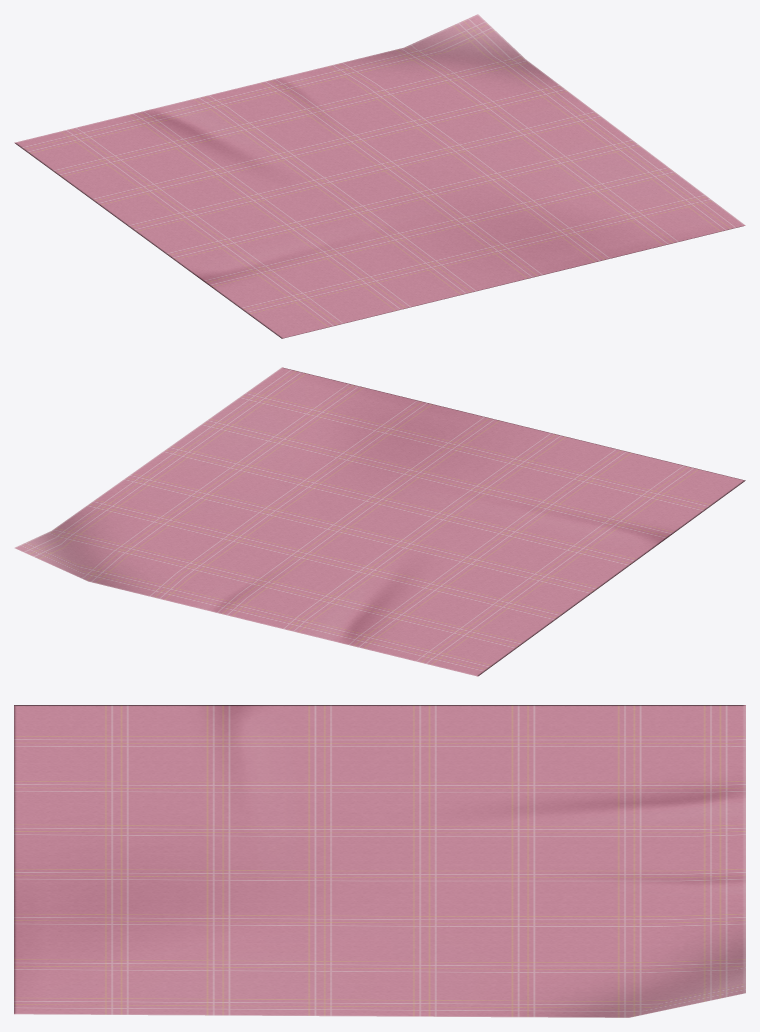
File: picnic_towel.fbx
3 views of the same model, one above another, from view 1: azimuth 30°, elevation 25°; view 2: azimuth 150°, elevation 25°; view 3: azimuth 270°, elevation 25° (orthographic). The views are drawn at different scales.
Visible parts, largest first — view 1: picnic_towel; view 2: picnic_towel; view 3: picnic_towel.
Part boxes in pixels (x1,y1,x2,y2): picnic_towel: [14, 14, 745, 338]; picnic_towel: [14, 367, 745, 676]; picnic_towel: [14, 705, 745, 1017].
Size of the model in its own units: 3.7 by 0.1166 by 3.66.
Materials: 1 (1 with a texture image).
